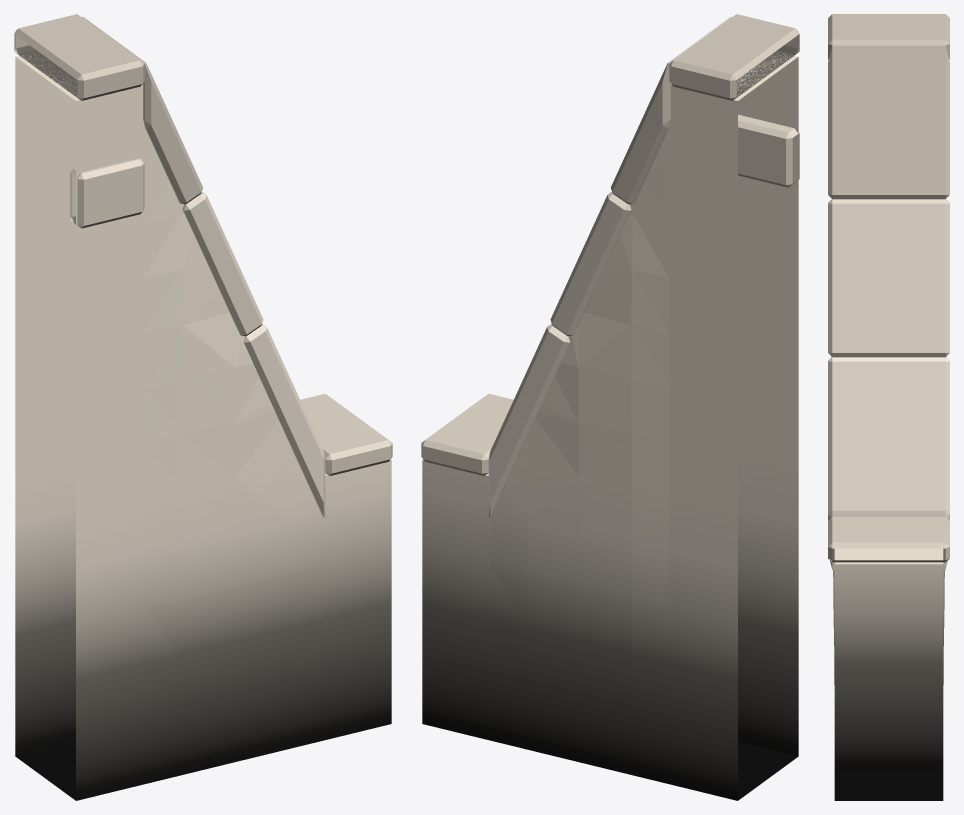
Rendered from SM_VKI_Wall_Ancient_Rake_150_R.fbx.
3 views of the same model, side by side, from view 1: azimuth 30°, elevation 25°; view 2: azimuth 150°, elevation 25°; view 3: azimuth 270°, elevation 25° (orthographic). The views are drawn at different scales.
Visible parts, largest first — view 1: SM_VKI_Wall_Ancient_Rake_150_R.001; view 2: SM_VKI_Wall_Ancient_Rake_150_R.001; view 3: SM_VKI_Wall_Ancient_Rake_150_R.001.
Part boxes in pixels (left/top/right/bottom): SM_VKI_Wall_Ancient_Rake_150_R.001: left=14, top=14, right=392, bottom=800; SM_VKI_Wall_Ancient_Rake_150_R.001: left=421, top=14, right=799, bottom=800; SM_VKI_Wall_Ancient_Rake_150_R.001: left=828, top=14, right=949, bottom=800.
Bounding box in the file's own units: 1.5 × 3.3 × 0.56.
